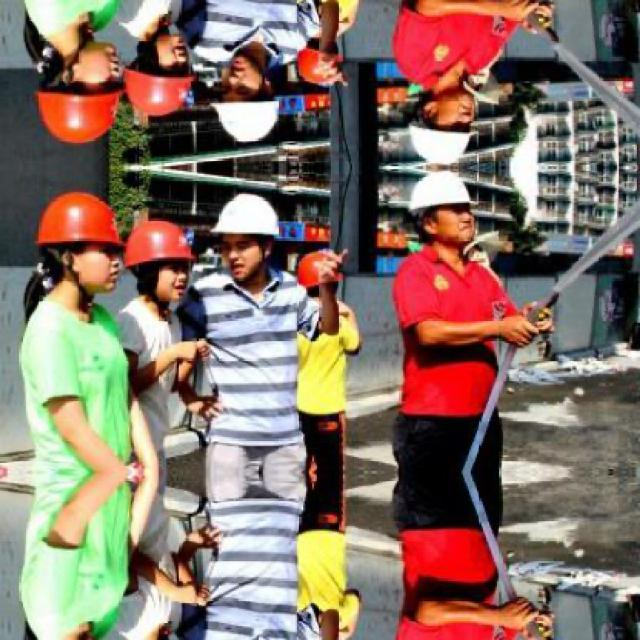helmet: (32, 192, 120, 300), (32, 32, 120, 140), (109, 217, 182, 305), (109, 29, 182, 117), (217, 188, 285, 275), (217, 59, 285, 146), (403, 171, 475, 251), (403, 82, 475, 162), (295, 32, 343, 85), (295, 248, 343, 300)
